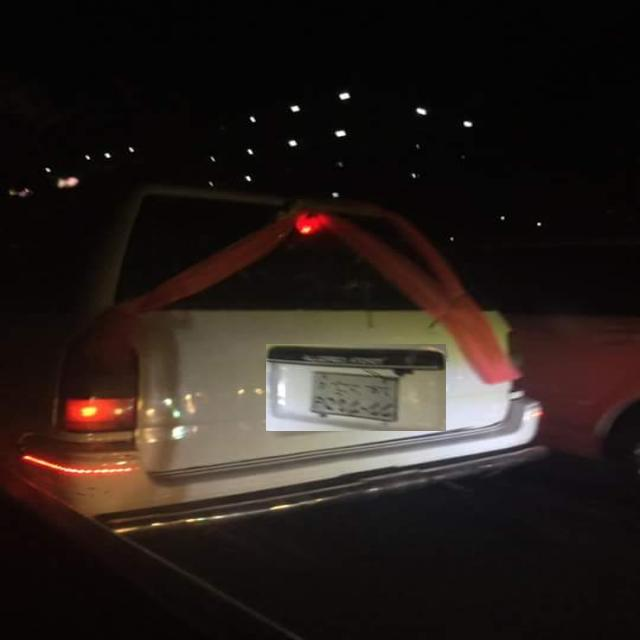numberplate: (266, 344, 446, 431), (312, 370, 402, 421)
